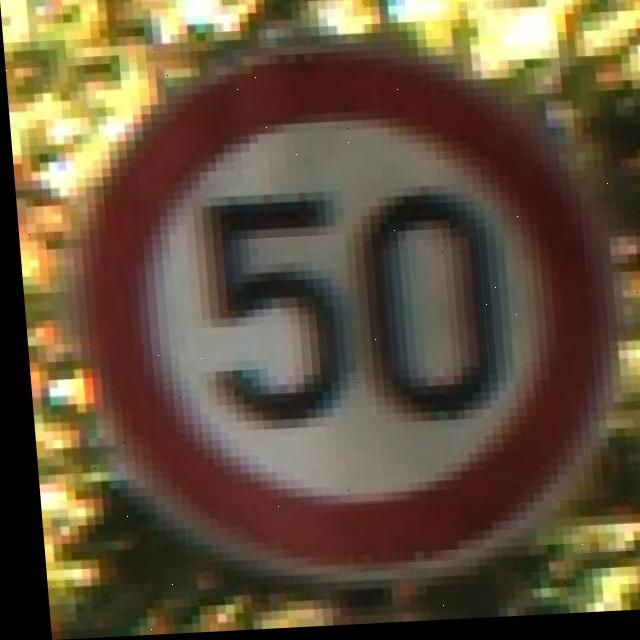Speed limit 50: (68, 42, 619, 594)
